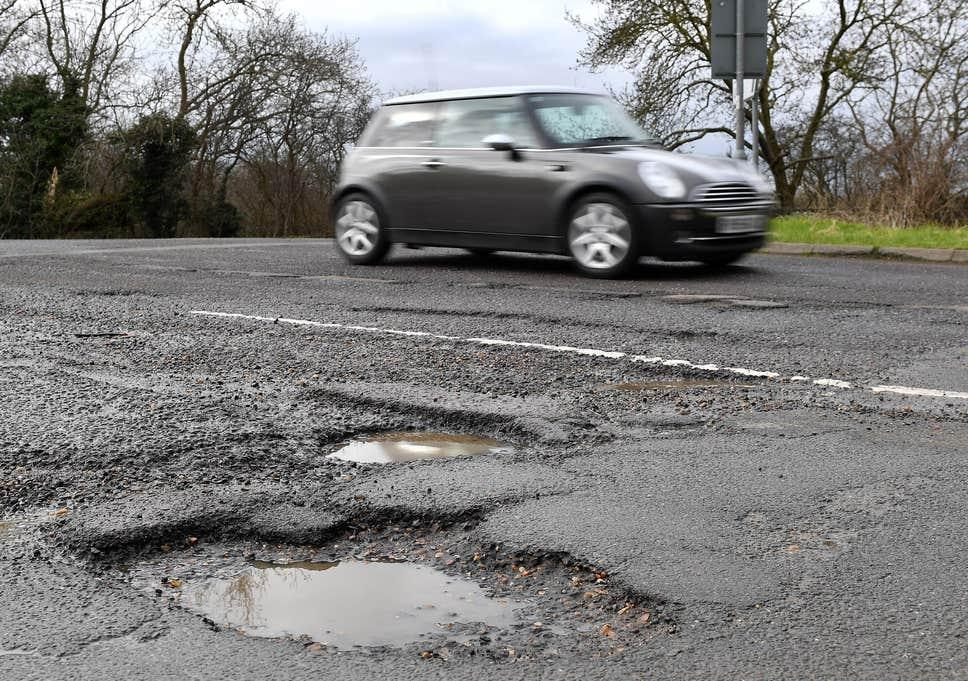Pothole: (91, 486, 646, 659), (303, 395, 547, 484)
